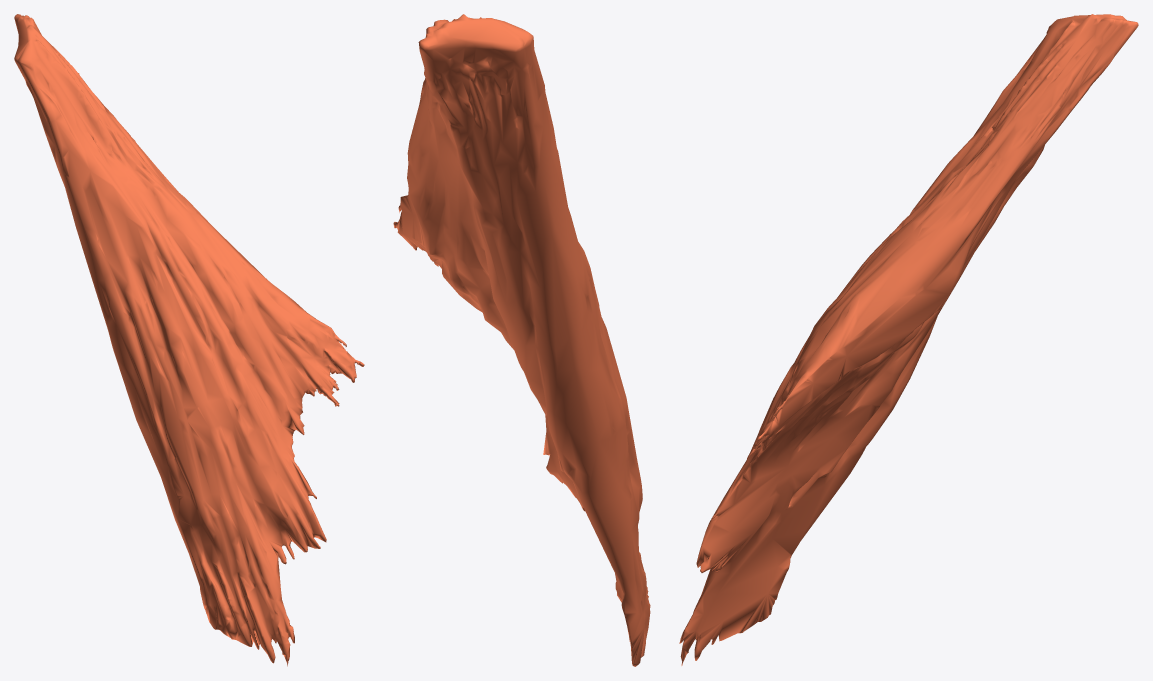
The model's file is Pectoralis_minor_muscle.r_Generated_Mesh_From_X3D.300.glb.
3 renders of one model, left to right at view 1: azimuth 30°, elevation 25°; view 2: azimuth 150°, elevation 25°; view 3: azimuth 270°, elevation 25°, orthographic. The views are drawn at different scales.
Visible parts, largest first — view 1: Pectoralis_minor_muscle.r_Generated_Mesh_From_X3D.300; view 2: Pectoralis_minor_muscle.r_Generated_Mesh_From_X3D.300; view 3: Pectoralis_minor_muscle.r_Generated_Mesh_From_X3D.300.
Part boxes in pixels (x1,y1,x2,y2): Pectoralis_minor_muscle.r_Generated_Mesh_From_X3D.300: [14, 14, 364, 666]; Pectoralis_minor_muscle.r_Generated_Mesh_From_X3D.300: [393, 14, 650, 666]; Pectoralis_minor_muscle.r_Generated_Mesh_From_X3D.300: [679, 14, 1138, 665].
Size of the model in its own units: 0.0589 by 0.1391 by 0.095.
